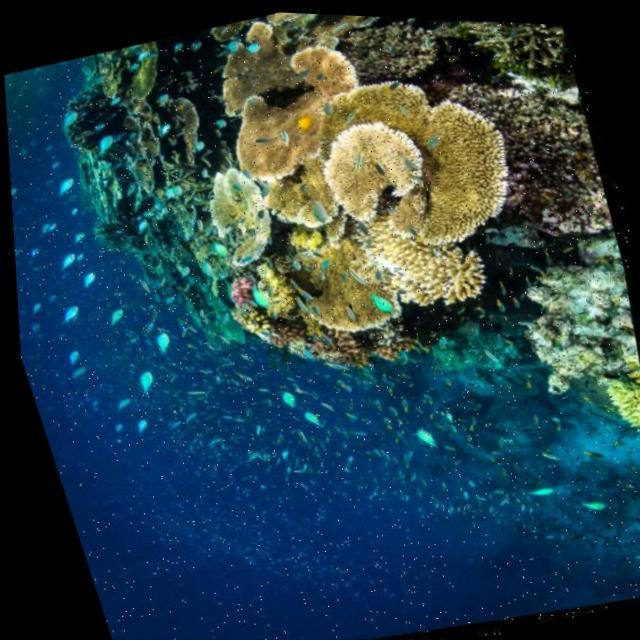Bleached Coral: (339, 190, 511, 340)
Healthy Coral: (282, 23, 558, 295), (184, 6, 401, 210), (226, 270, 434, 410), (178, 142, 297, 291), (103, 35, 184, 114), (161, 92, 220, 177), (357, 12, 504, 42), (599, 367, 640, 428), (219, 273, 272, 315)
